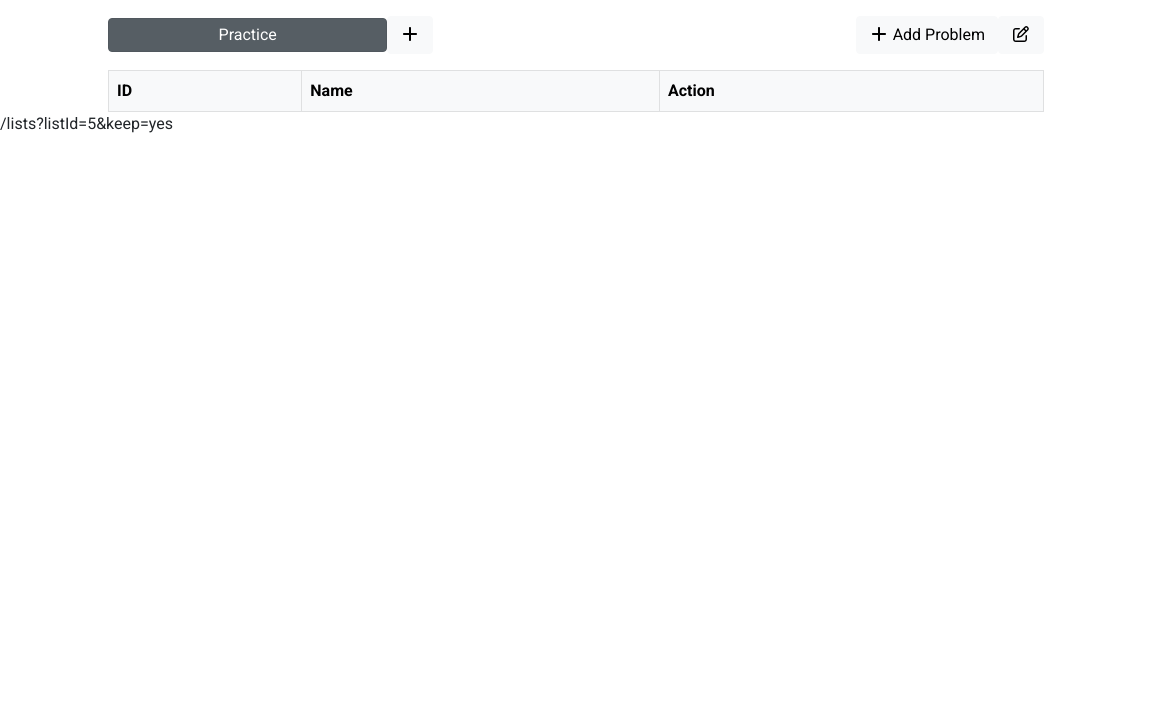
Scenario: renaming submits the selected ID and closes on success
Click the button named "Edit list": (1021, 35) [998,16,1044,54]
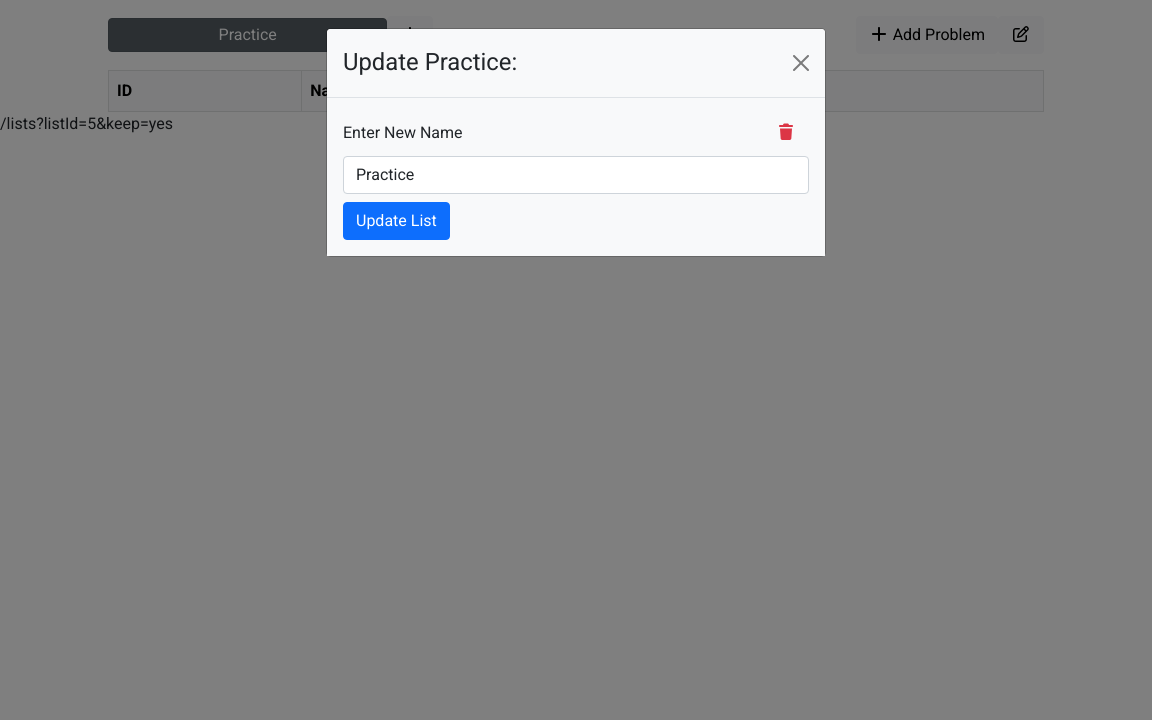
Now the field labelled "Enter New Name" holds "Practice"
Replace the text in the field labelled "Enter New Name" with "Renamed": (576, 175) [343,156,809,194]
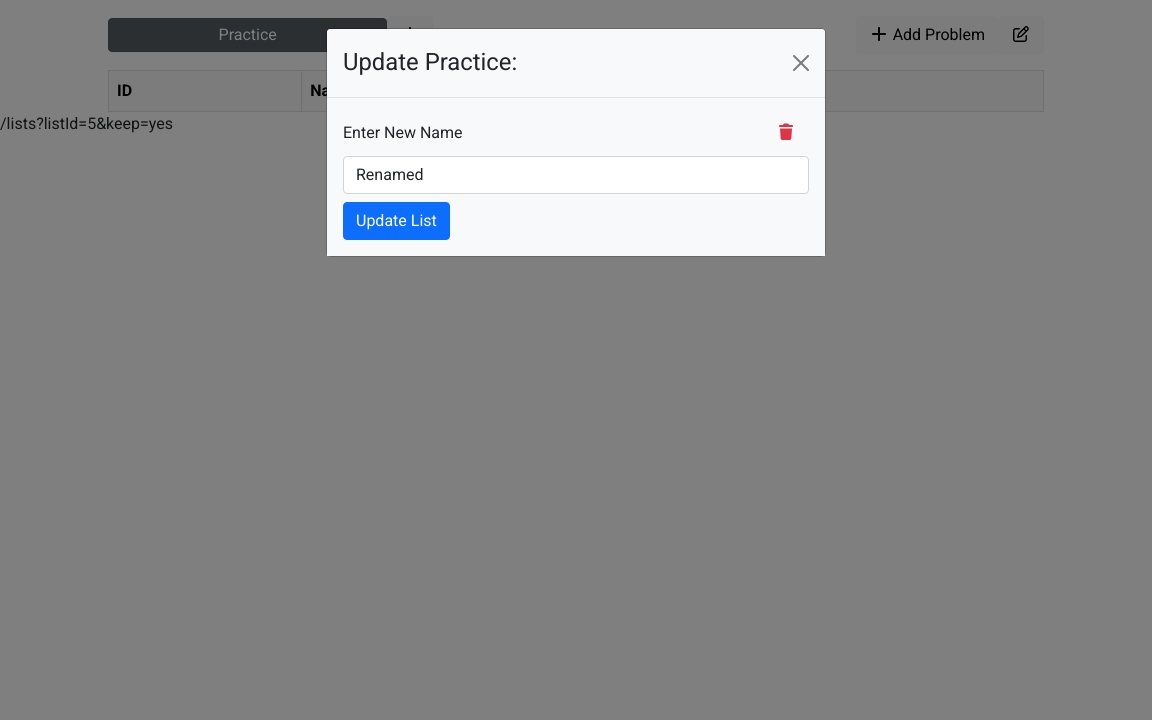
Click the button "Update List": (396, 221) [343,202,450,240]
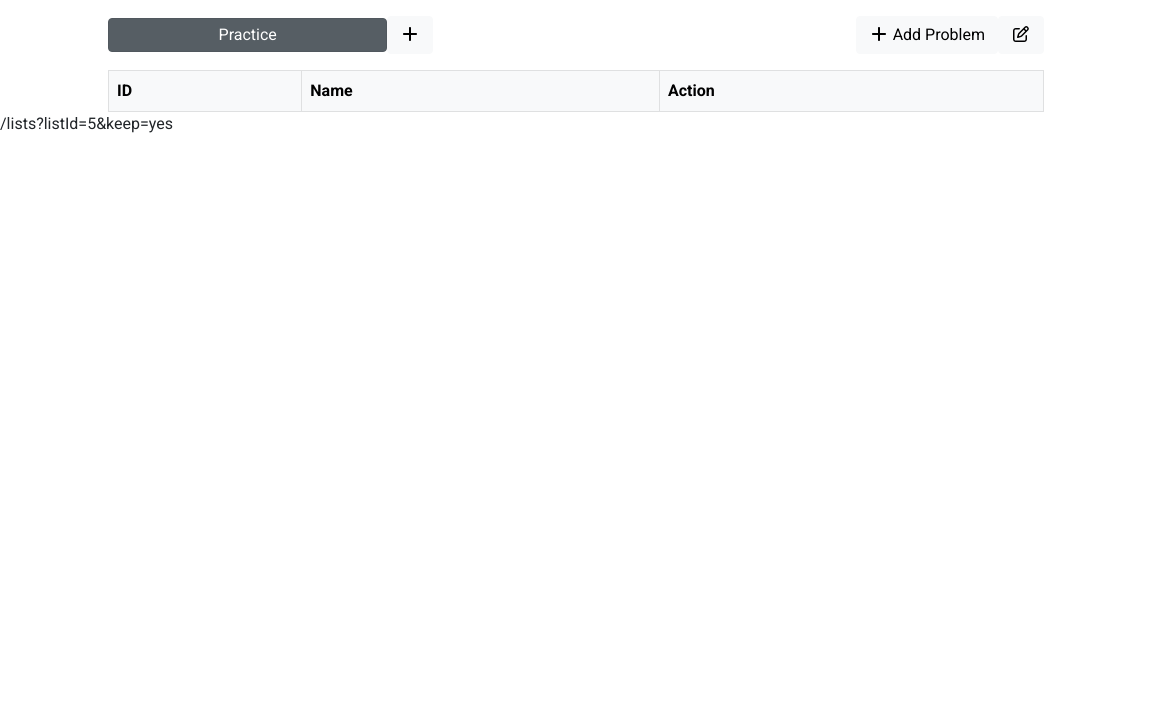
Now the label labelled "Enter New Name" is gone
